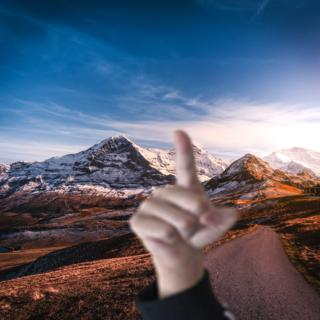IRRITATED: (124, 127, 239, 262)
